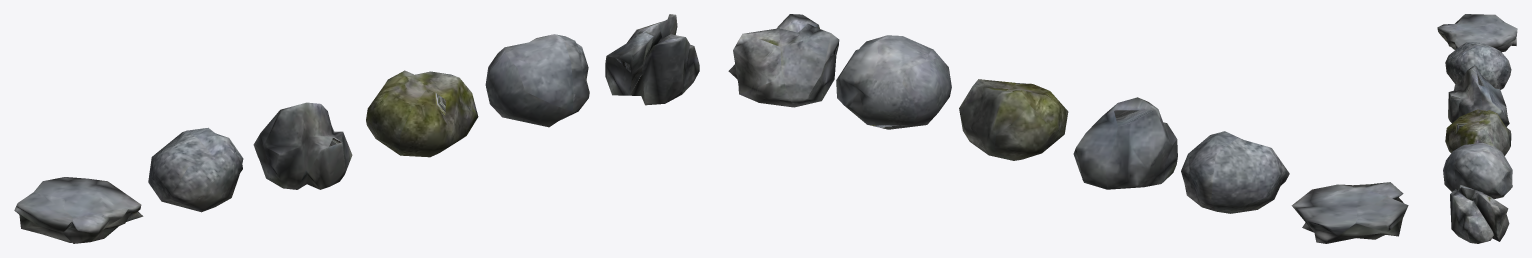
The model's file is rocks_small.glb.
3 views of the same model, side by side, from view 1: azimuth 30°, elevation 25°; view 2: azimuth 150°, elevation 25°; view 3: azimuth 270°, elevation 25° (orthographic). The views are drawn at different scales.
Parts seen in each view (by area): view 1: round, mossy, angular, flat, speckled, split; view 2: round, split, angular, mossy, speckled, flat; view 3: round, split, flat, mossy, speckled, angular.
Boxes of the visible parts, <box> form: round: <box>485,34,589,127</box>; mossy: <box>366,70,478,157</box>; angular: <box>253,102,352,189</box>; flat: <box>14,177,143,243</box>; speckled: <box>148,127,243,212</box>; split: <box>605,14,699,105</box>; round: <box>836,35,951,129</box>; split: <box>728,14,839,107</box>; angular: <box>1073,97,1177,189</box>; mossy: <box>959,79,1068,160</box>; speckled: <box>1181,131,1289,213</box>; flat: <box>1291,182,1408,243</box>; round: <box>1443,142,1512,198</box>; split: <box>1450,185,1509,243</box>; flat: <box>1437,14,1517,51</box>; mossy: <box>1445,109,1511,155</box>; speckled: <box>1445,42,1511,89</box>; angular: <box>1448,66,1509,126</box>.
Bounding box in the file's own units: 2.09 × 0.2198 × 0.3249.
1 material, 1 textured.
